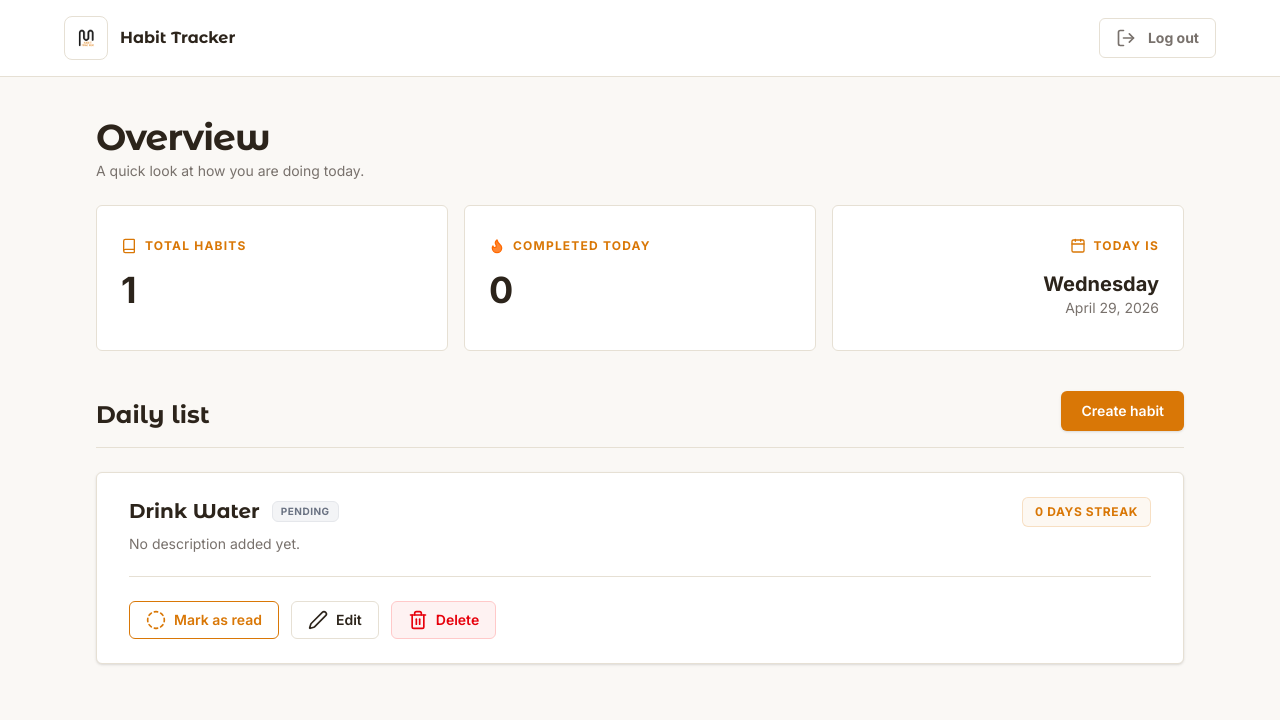
Test: habit form › toggles completion and updates the streak display
Expected: the text with test id "habit-streak-drink-water" reads "0 days streak", [1022, 497, 1151, 527]
Click the button with test id "habit-complete-drink-water".
click(204, 620)  # box [129, 601, 279, 639]
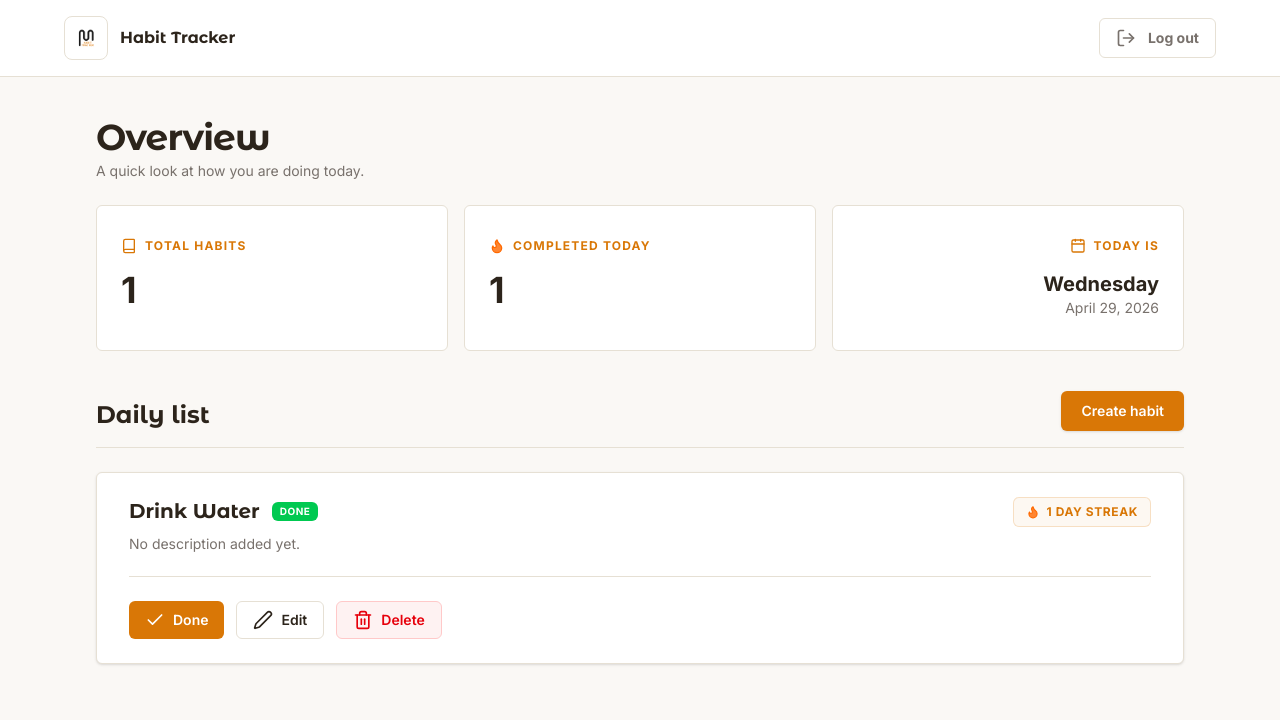
Now the element with test id "habit-streak-drink-water" reads "1 day streak", box [1013, 497, 1151, 527]
